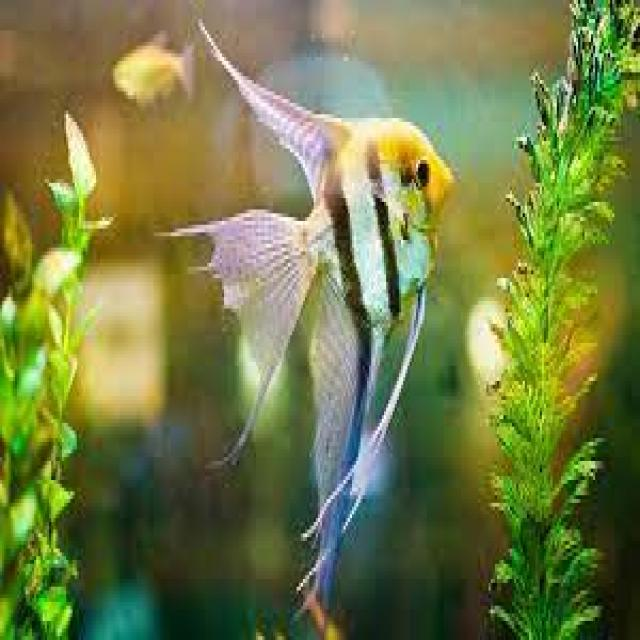AngelFish: (195, 25, 457, 604)
